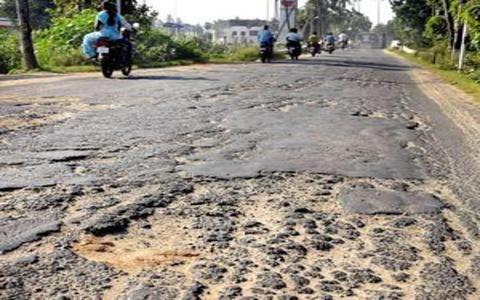patchy roads: (102, 158, 469, 296), (196, 78, 409, 146)
